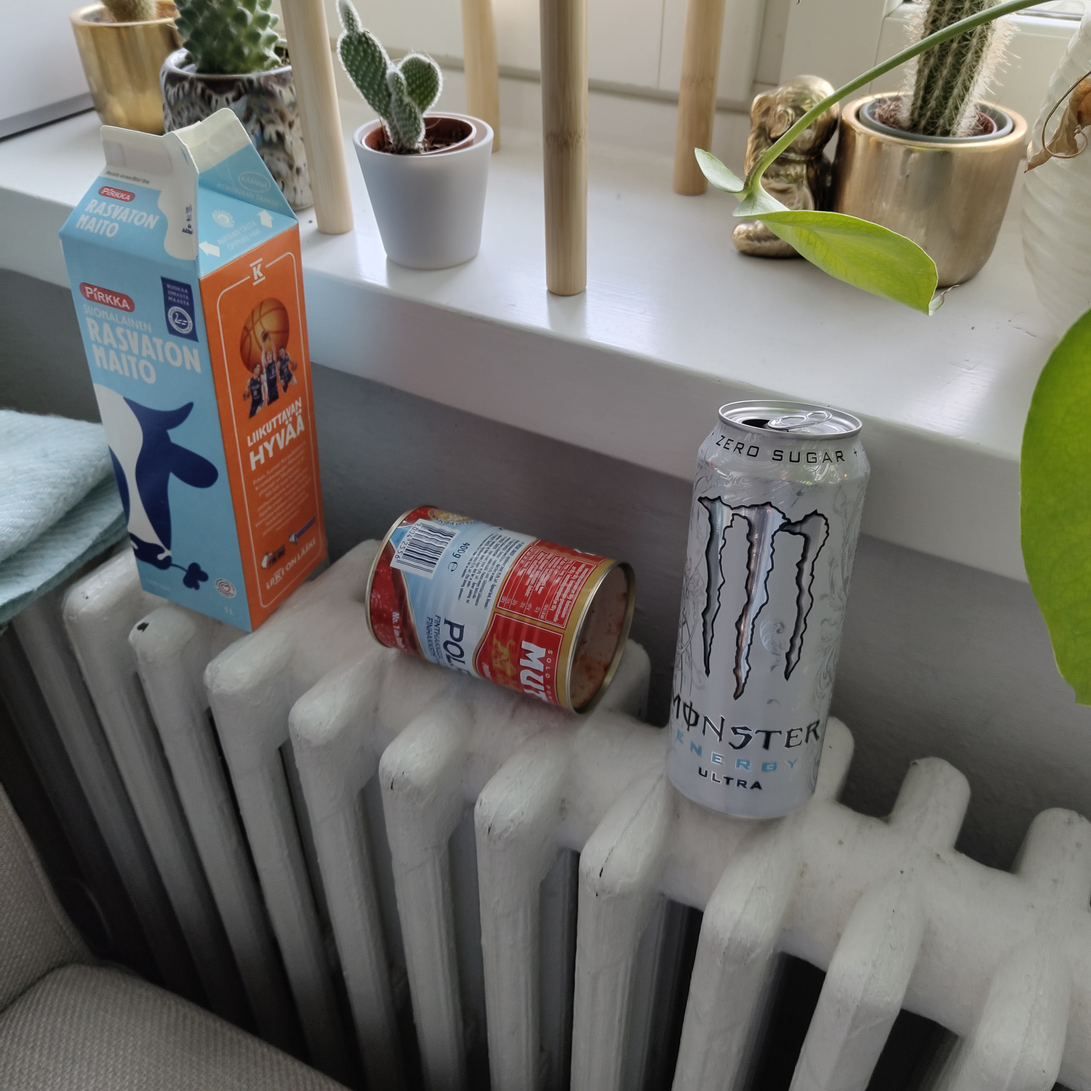Dryckeskartong: (60, 108, 327, 632)
Konservburk: (364, 502, 636, 719)
Pantburk: (665, 399, 871, 823)
